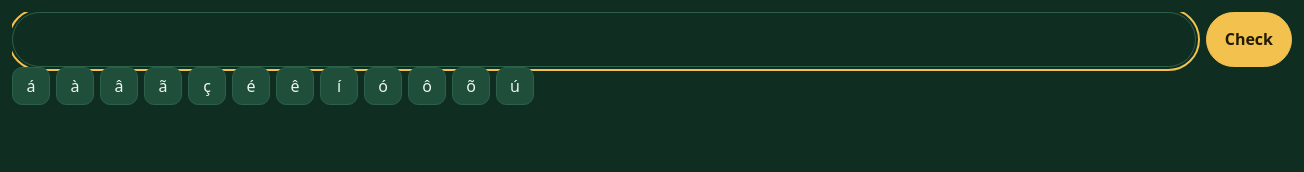
AnswerField › types accents from the buttons where the cursor is
Type "caf" into the field named "Your answer in Portuguese" at (604, 40), box [12,12,1196,67]
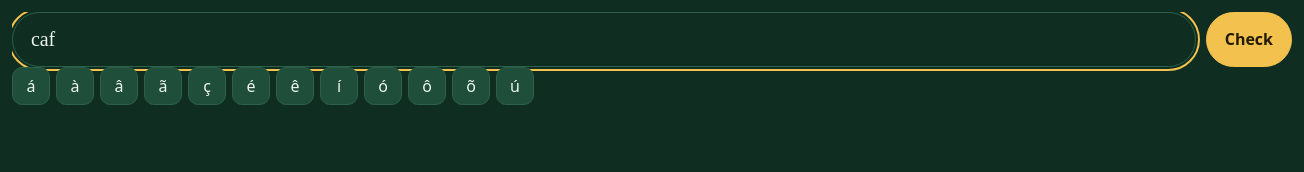
Click the button "é" at (251, 86), box [232,67,270,105]
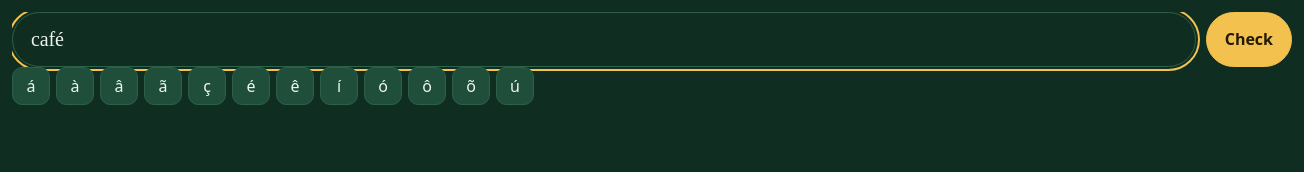
Expected: the field named "Your answer in Portuguese" holds "café", [12,12,1196,67]
